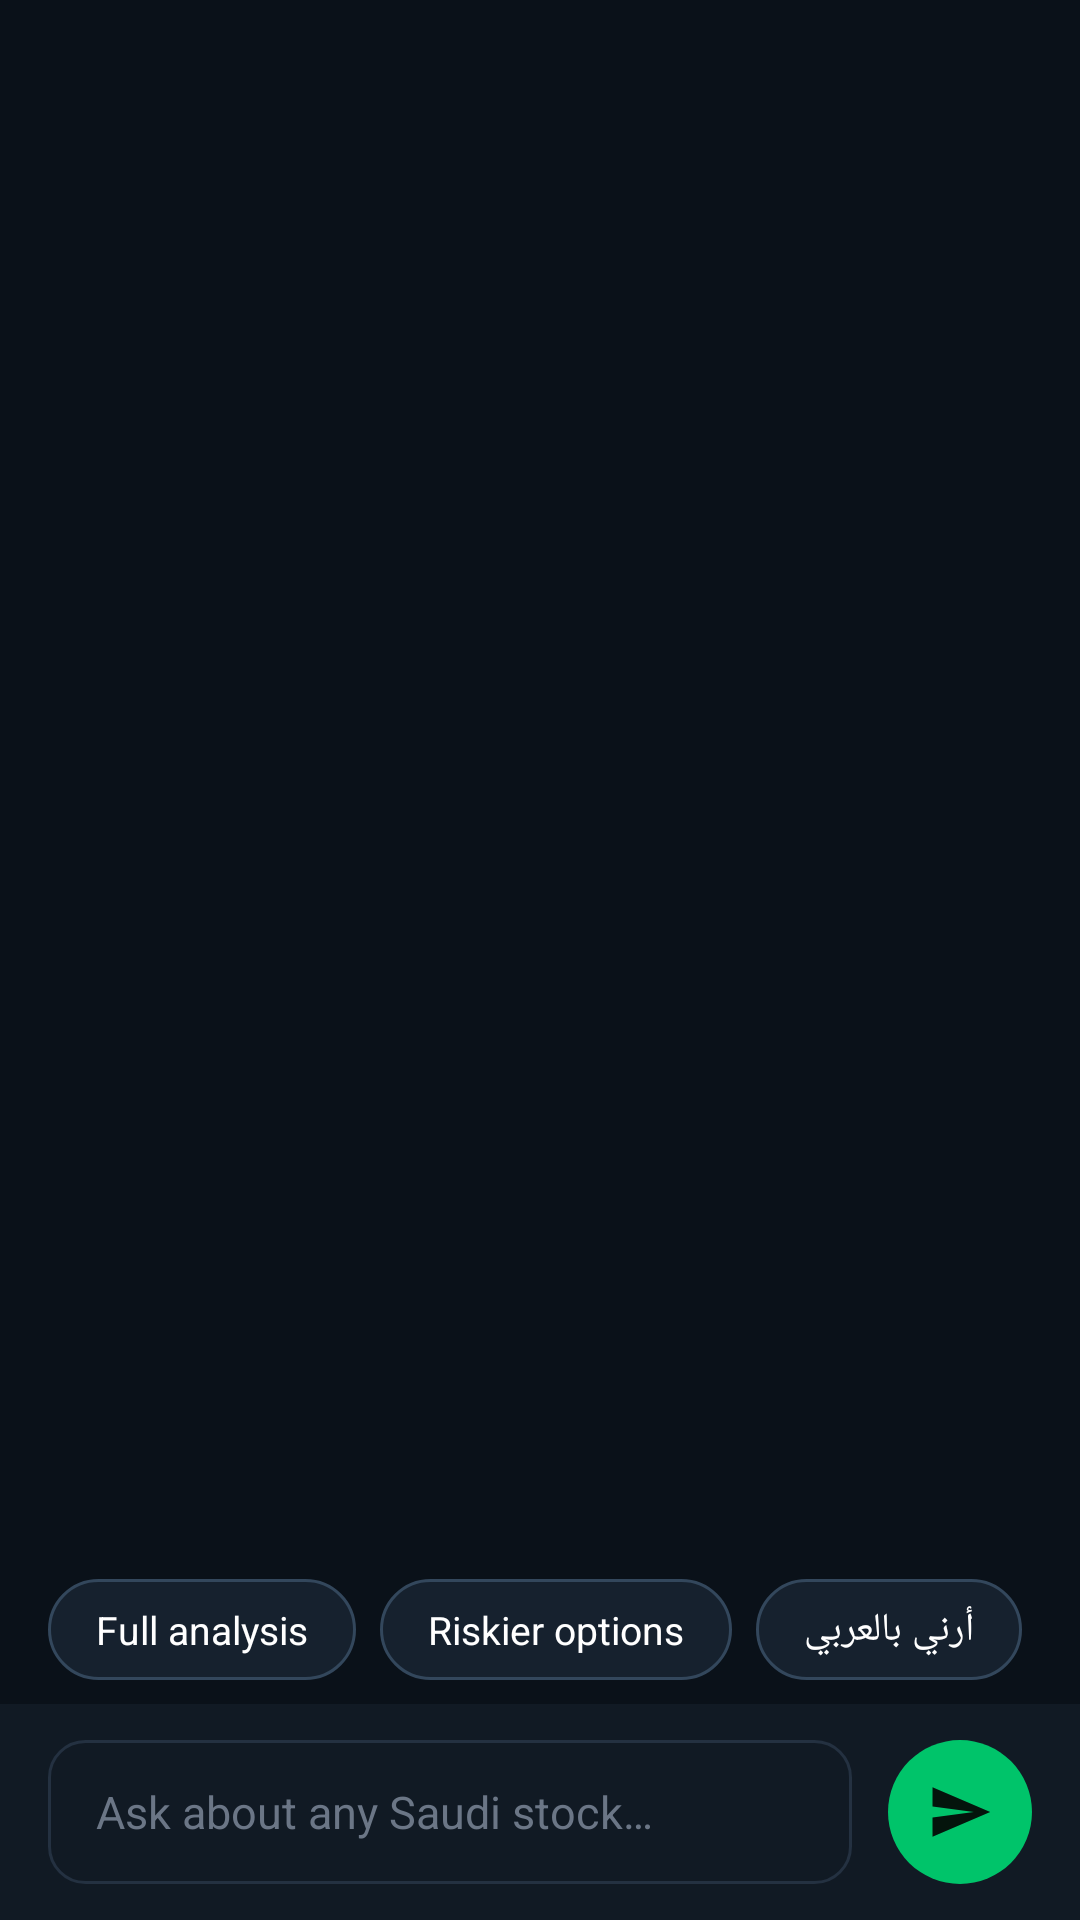

Icon bounding boxes for this 1080 x 1920 phone screenshot, format bbox=(x1, y1, x2, y2):
Send: bbox=(888, 1740, 1032, 1884)
